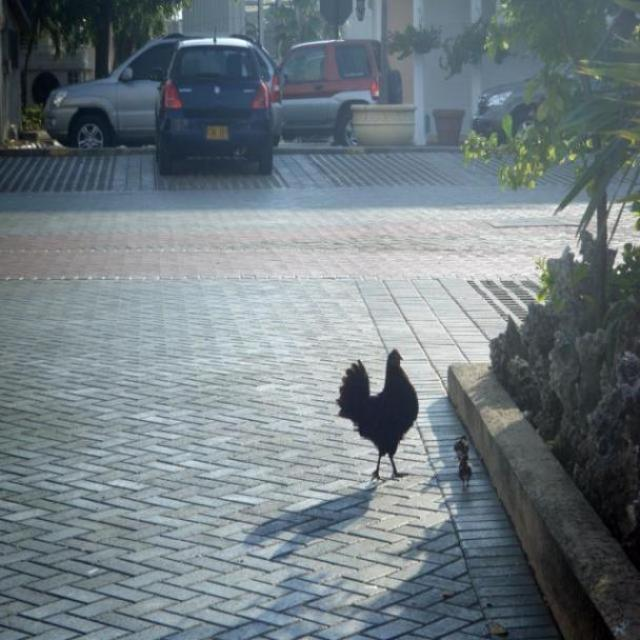Chicken: (343, 347, 418, 505), (458, 453, 473, 488)
